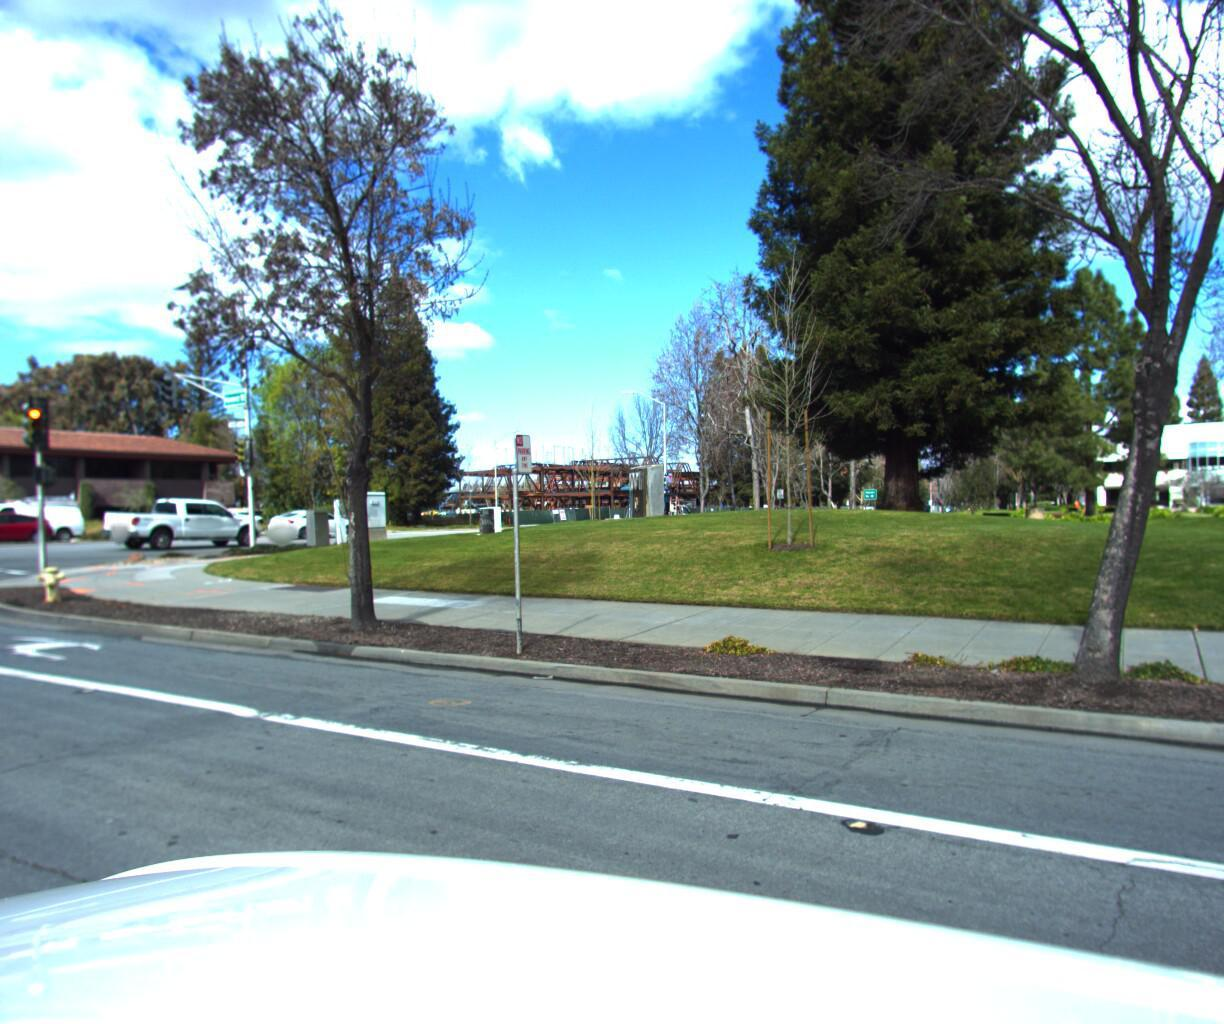car: (104, 505, 276, 554), (266, 508, 370, 542), (0, 510, 60, 548)
truck: (0, 498, 97, 552)
